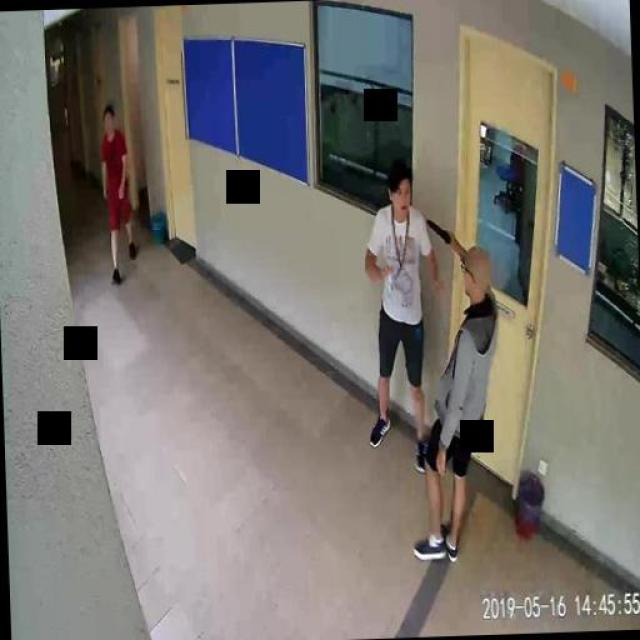gun: (425, 214, 453, 248)
